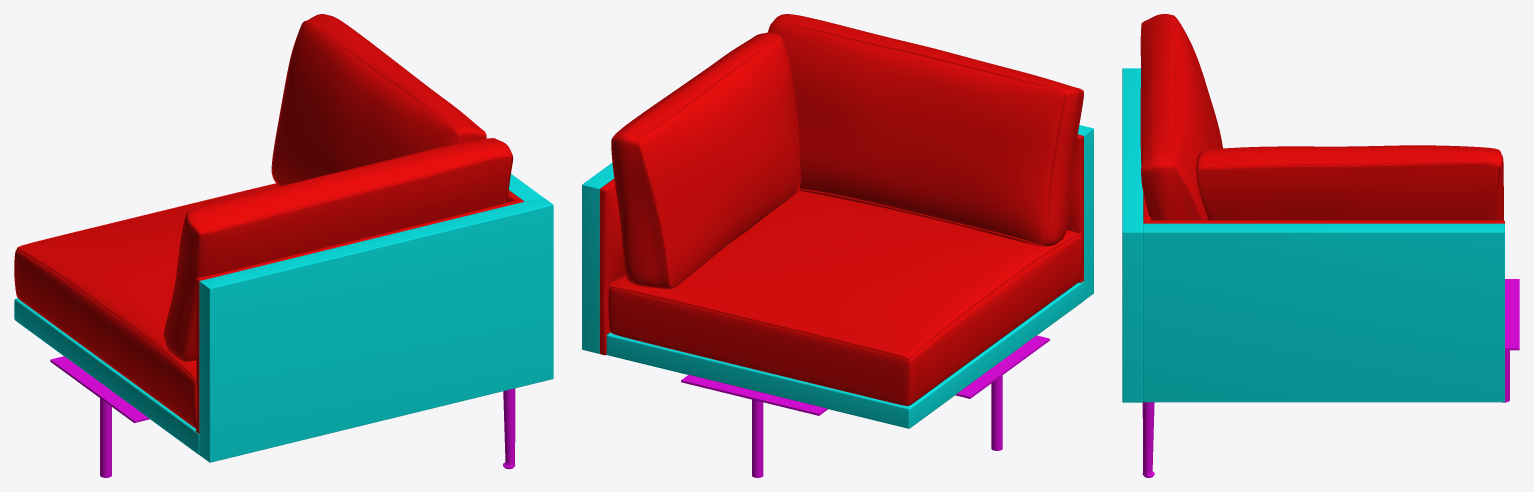
The picture shows the model from 3 angles, left to right: view 1: azimuth 30°, elevation 25°; view 2: azimuth 150°, elevation 25°; view 3: azimuth 270°, elevation 25°; orthographic projection. The views are drawn at different scales.
Visible parts, largest first — view 1: polySurface188; view 2: polySurface188; view 3: polySurface188.
Part boxes in pixels (x1,y1,x2,y2): polySurface188: (14, 14, 553, 477); polySurface188: (582, 14, 1093, 477); polySurface188: (1122, 14, 1519, 477).
Bounding box in the file's own units: 87.23 × 76.2 × 85.58.
